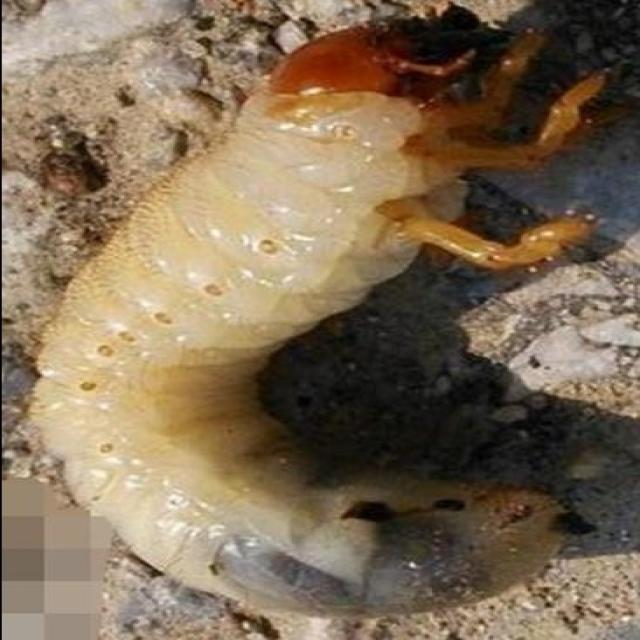grub: (37, 32, 479, 627)
